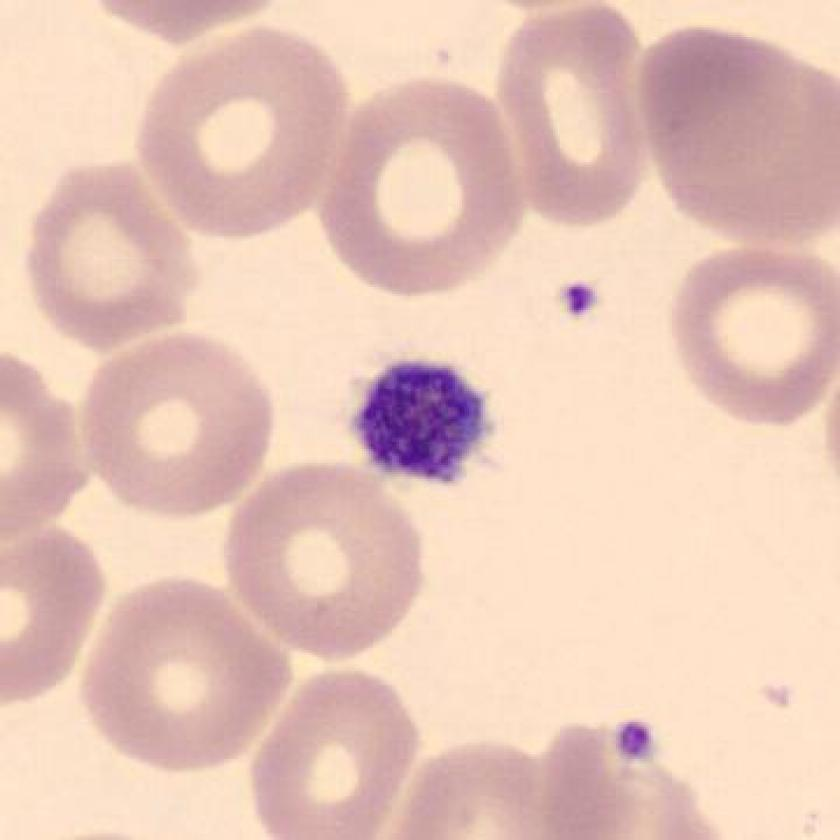platelets: (349, 355, 500, 499), (605, 711, 666, 774), (552, 274, 608, 320)
